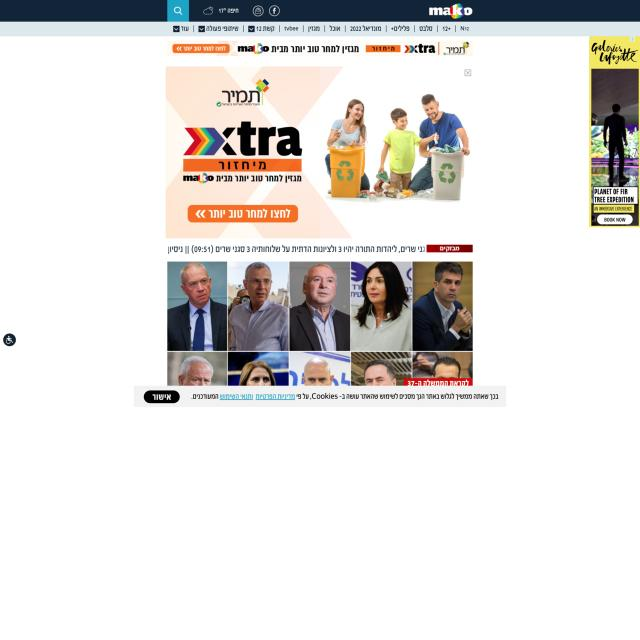logo: (428, 2, 475, 21)
navigation: (172, 24, 472, 35)
